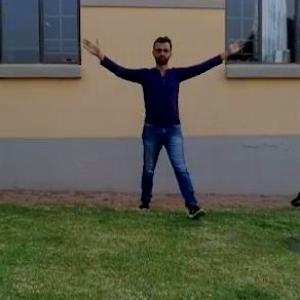takeoff: (74, 34, 230, 201)
